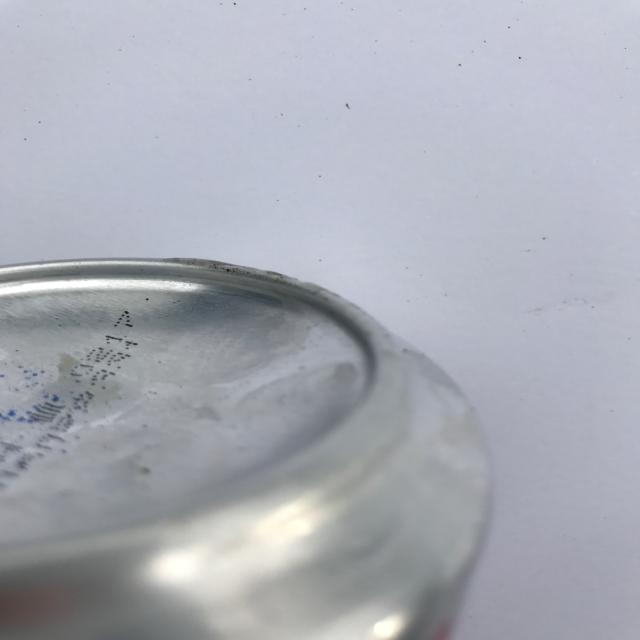metal: (1, 253, 500, 640)
